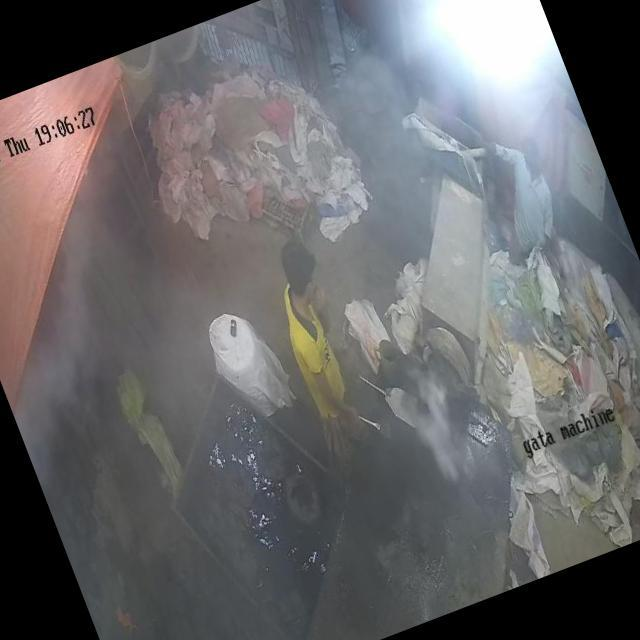person: (255, 241, 387, 484), (481, 107, 576, 261)
